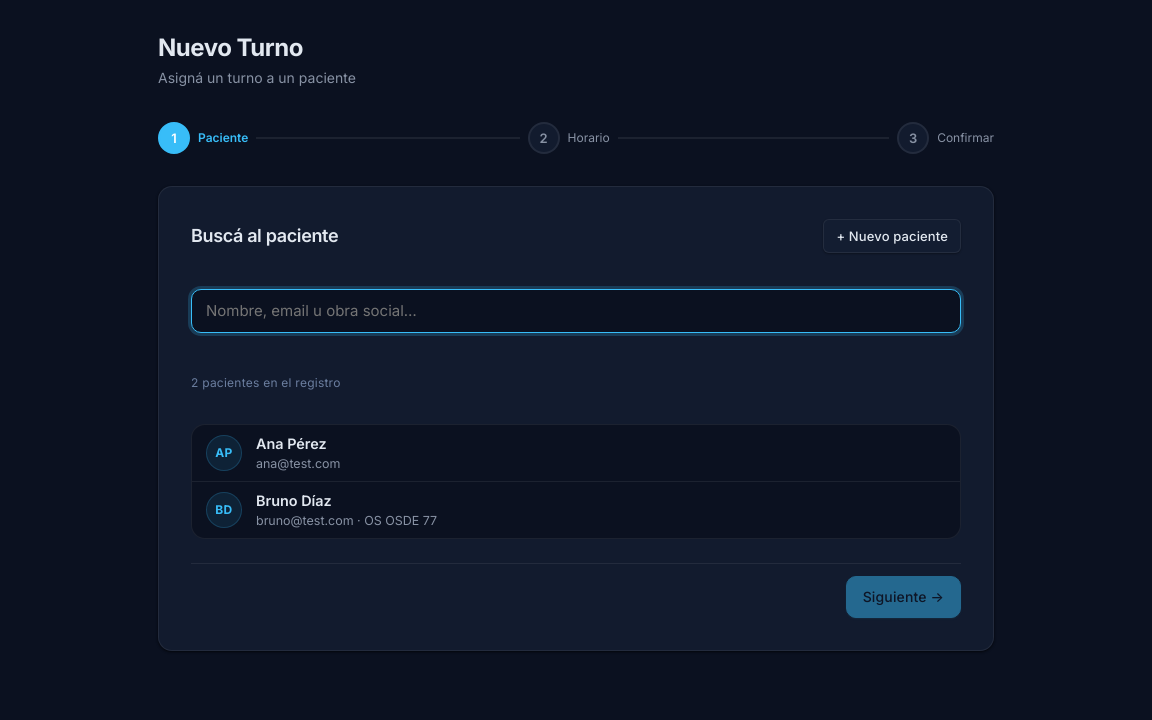
Test: NewAppointmentPage › DOCTOR puede registrar un paciente nuevo sin salir del flujo y queda seleccionado
Check: the text "Ana Pérez" is shown, box [256, 435, 327, 452]
Click the button "+ Nuevo paciente".
click(892, 236)  # box [824, 219, 961, 253]
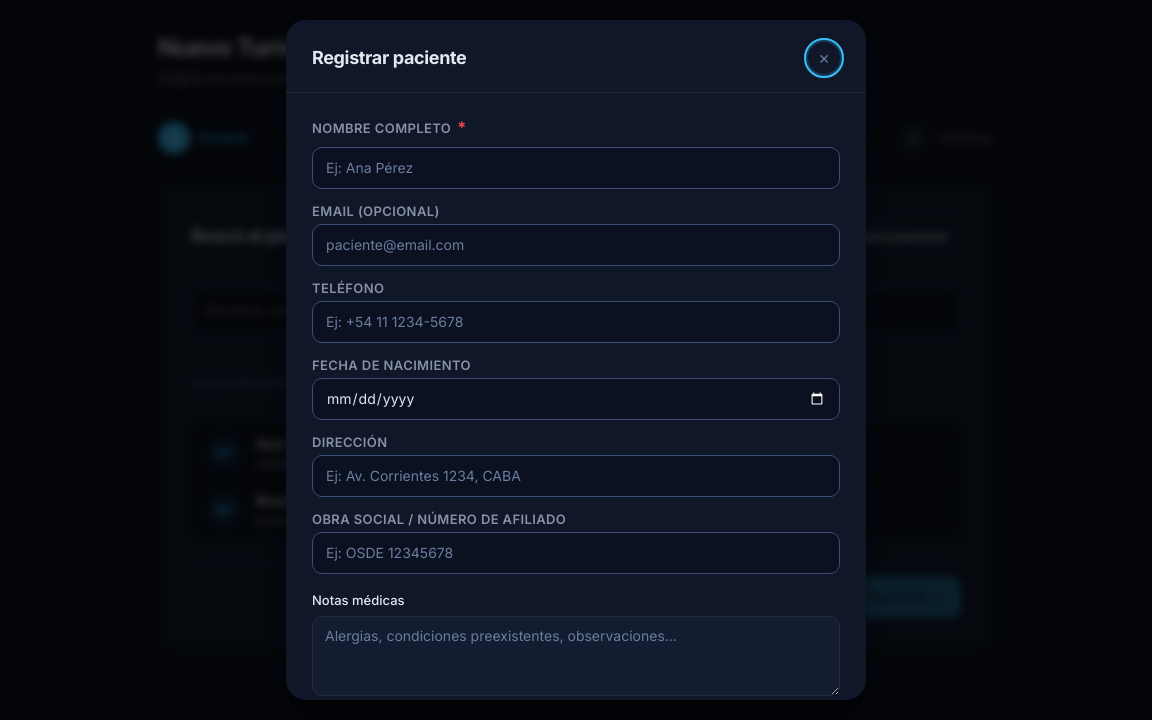
Type "Nuevo Walk-in" into the field labelled "Nombre completo".
click(576, 168); type("Nuevo Walk-in")  # box [312, 147, 840, 189]
(page scrolled)
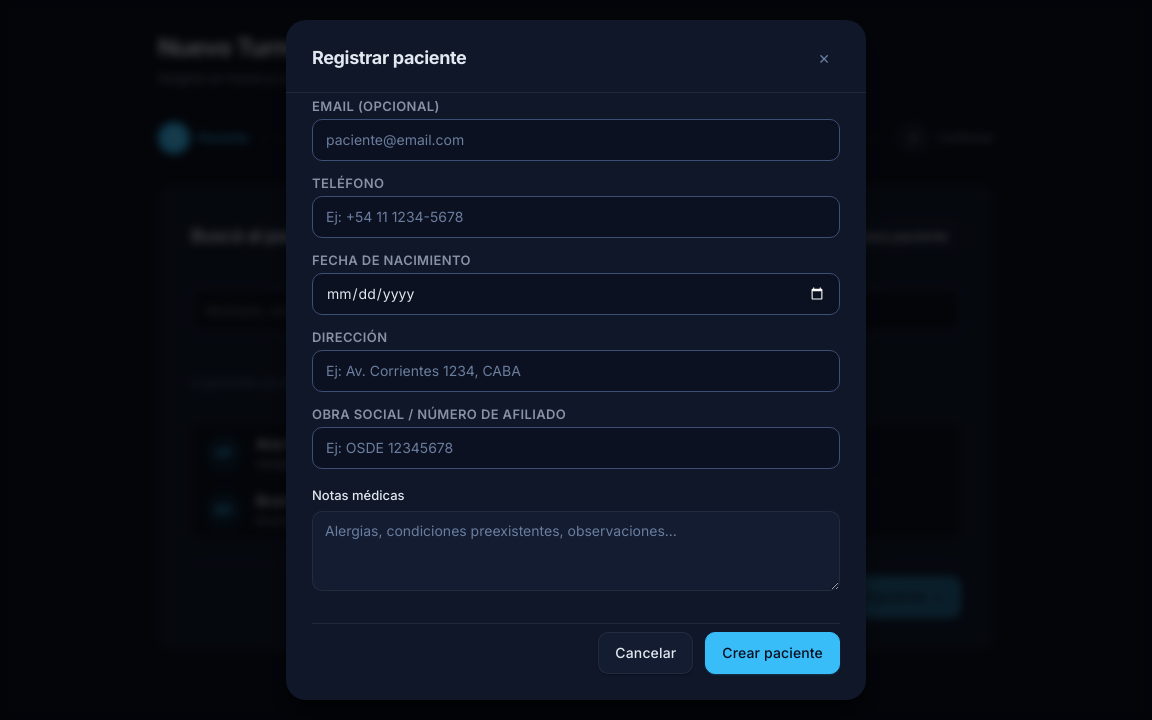
Click the button "Crear paciente".
click(773, 653)  # box [705, 632, 840, 674]
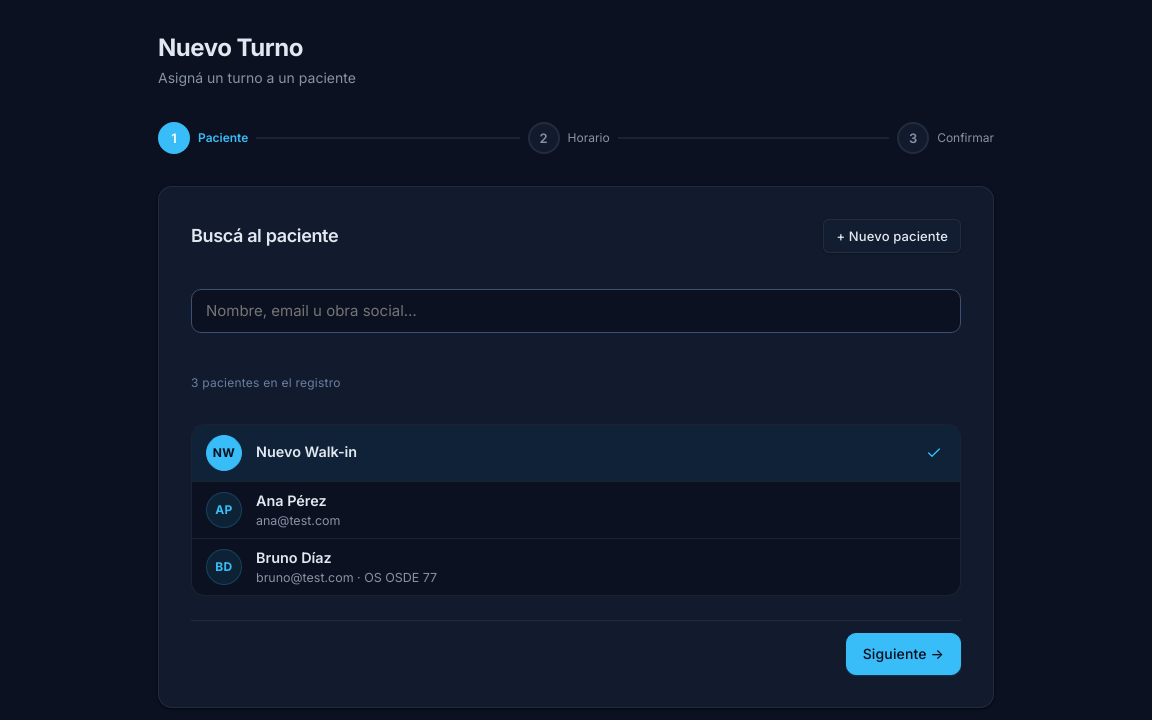
Check: the text "Nuevo Walk-in" is shown, box [256, 443, 357, 460]
Check: the button "Siguiente →" is enabled, box [846, 633, 961, 675]
